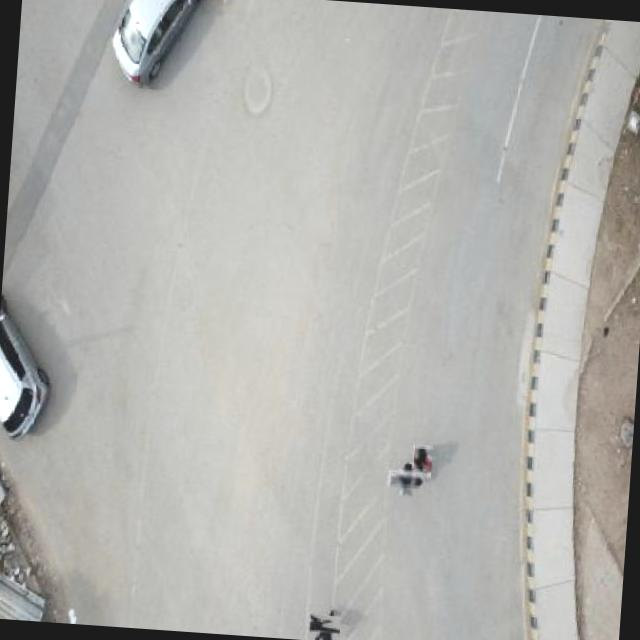Person: (411, 444, 433, 480), (392, 466, 418, 492), (312, 612, 338, 638)
